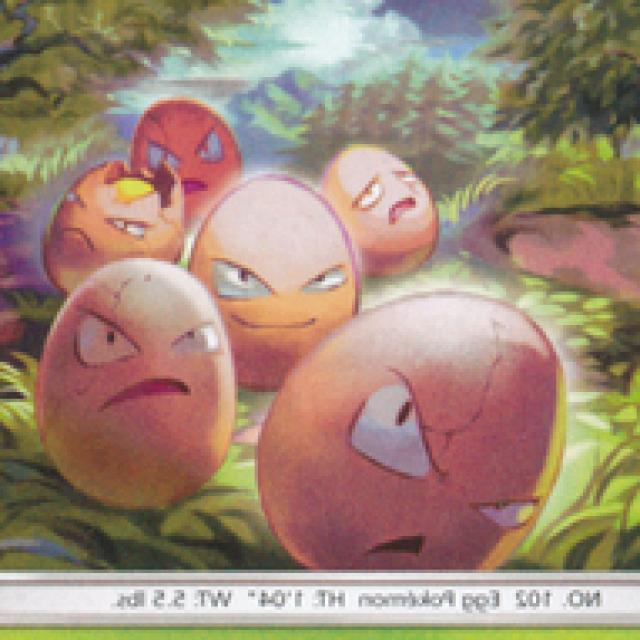Exeggcute: (30, 144, 557, 506)
